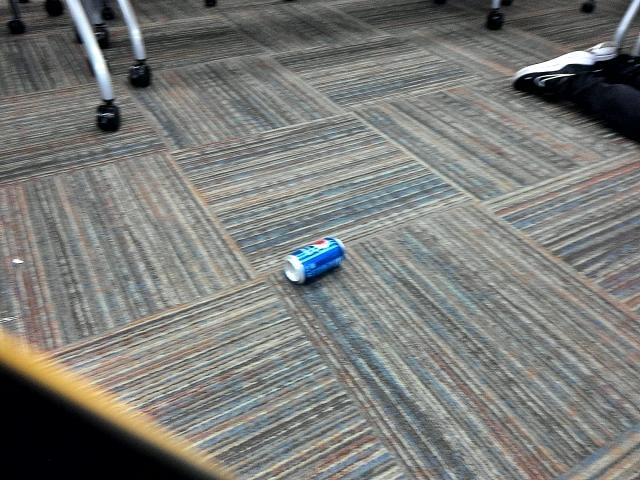can: (274, 228, 350, 288)
